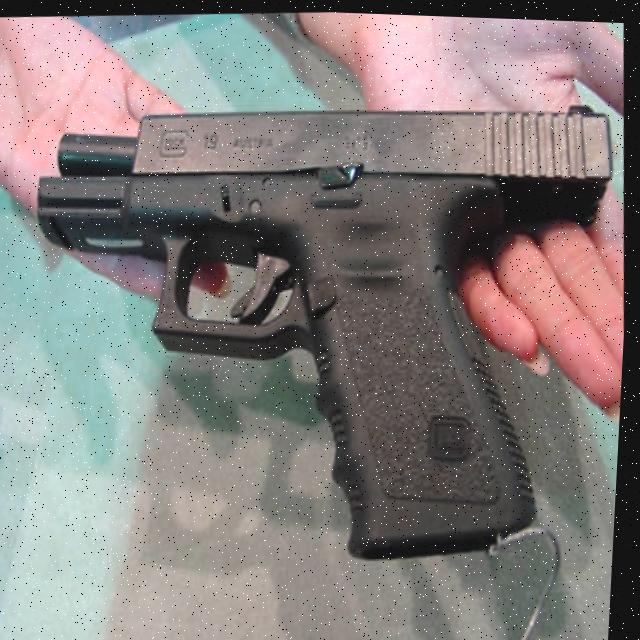pistol: (14, 79, 637, 586)
